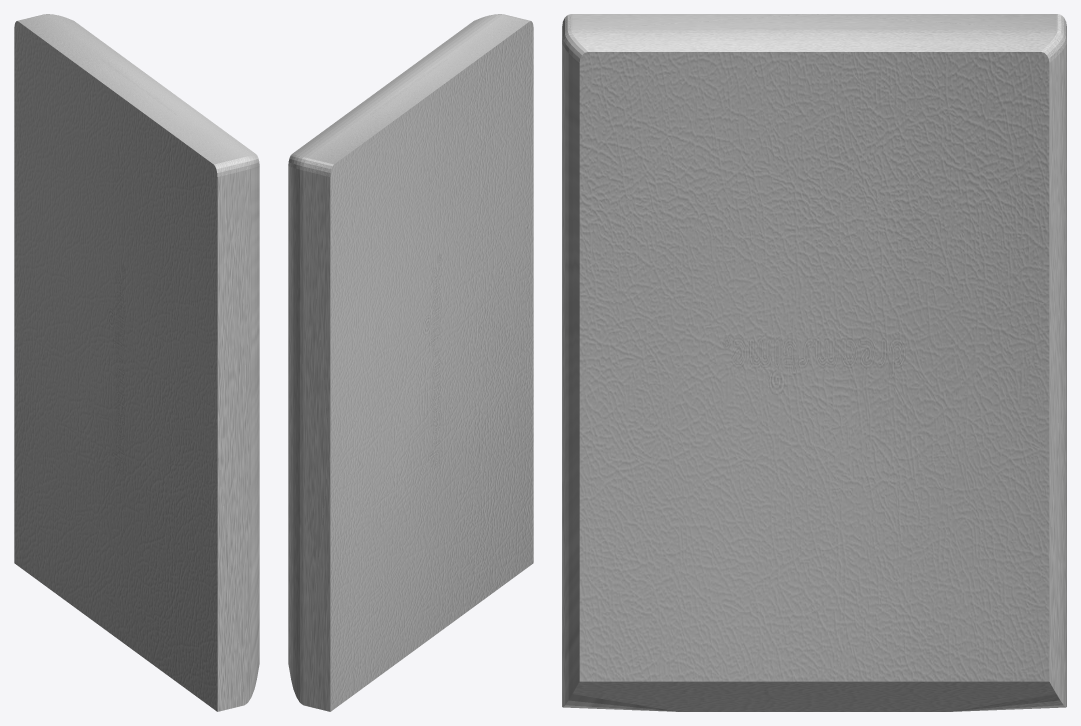
File: Puerta_refri.obj
3 views of the same model, side by side, from view 1: azimuth 30°, elevation 25°; view 2: azimuth 150°, elevation 25°; view 3: azimuth 270°, elevation 25° (orthographic). The views are drawn at different scales.
Parts seen in each view (by area): view 1: puerta_refri_Cube.036; view 2: puerta_refri_Cube.036; view 3: puerta_refri_Cube.036.
Boxes of the visible parts, <box> form: puerta_refri_Cube.036: <box>14,14,259,711</box>; puerta_refri_Cube.036: <box>288,14,533,711</box>; puerta_refri_Cube.036: <box>562,14,1066,711</box>.
Bounding box in the file's own units: 0.0889 × 0.9416 × 0.6366.
